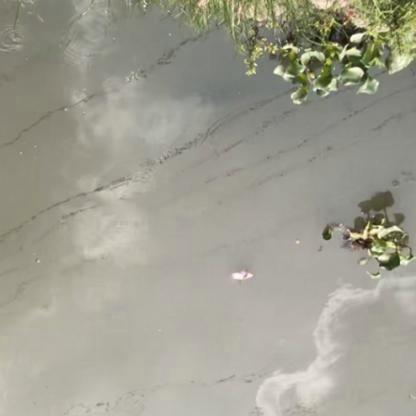Trash: (228, 266, 258, 284)
